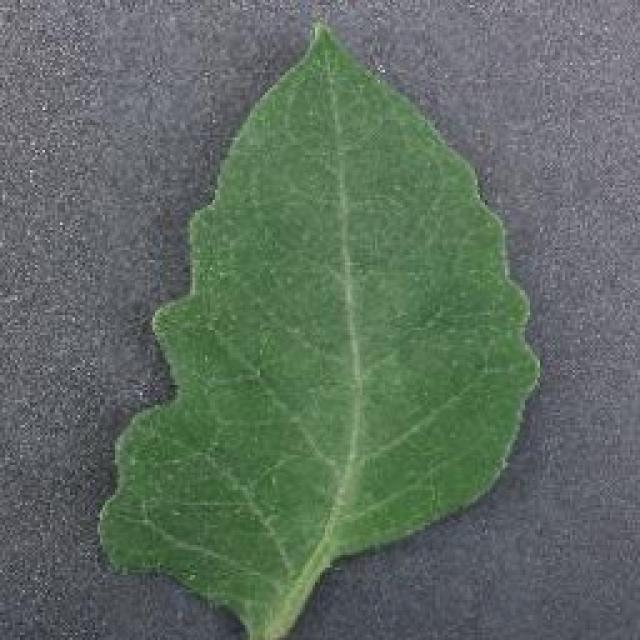Healthy: (98, 12, 542, 640)
